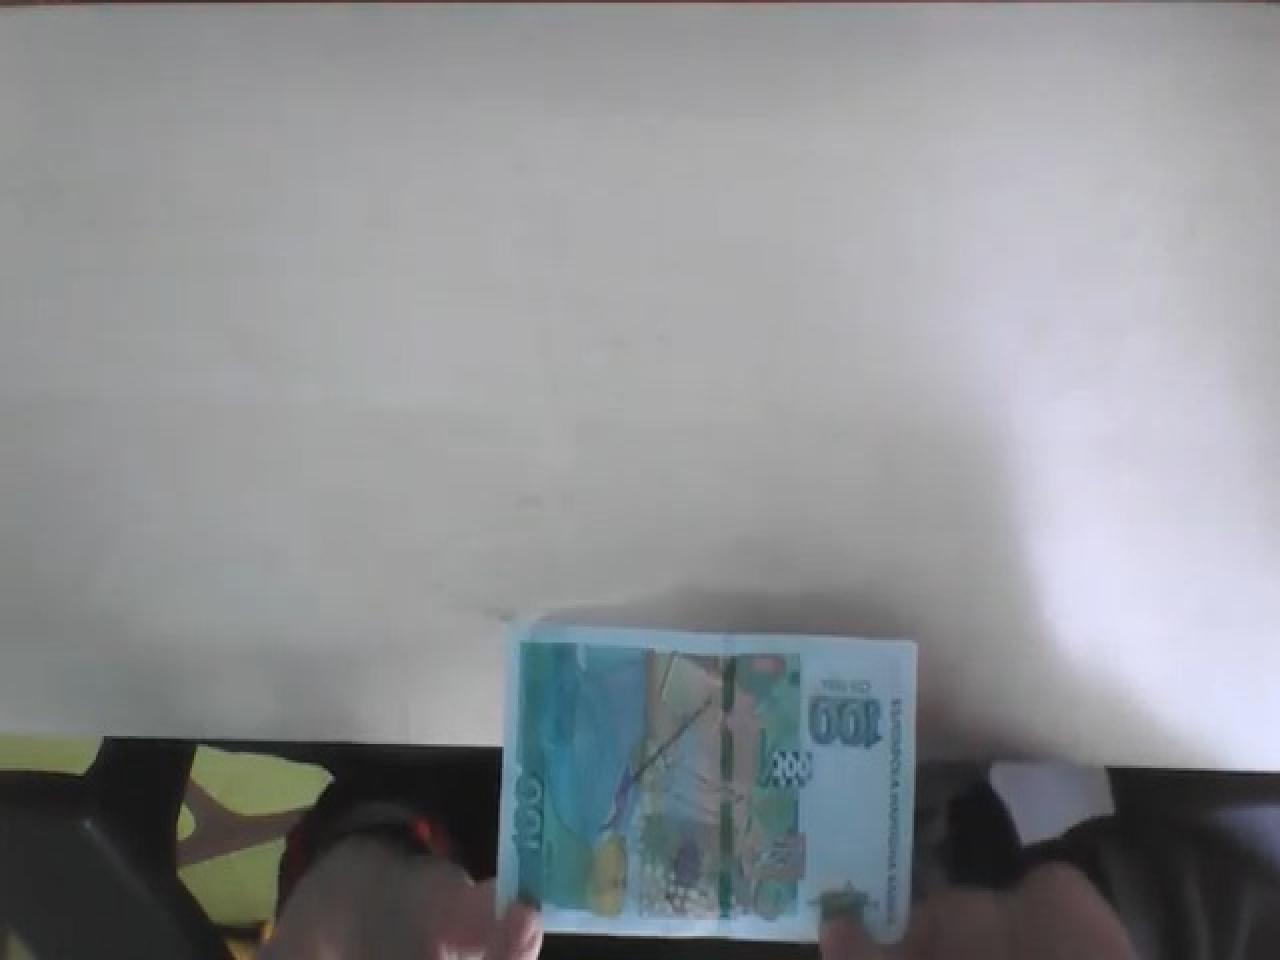100leva: (498, 621, 920, 947), (808, 693, 886, 754)
